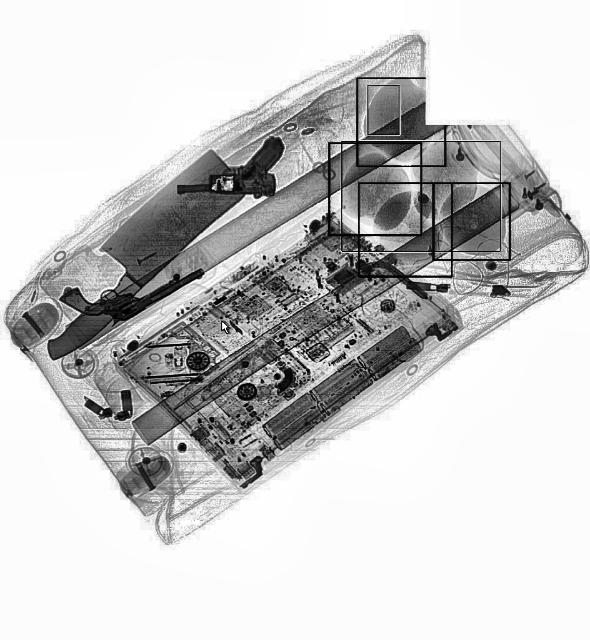Gun: (52, 225, 208, 345), (176, 134, 284, 198)
Knife: (15, 144, 253, 366)
